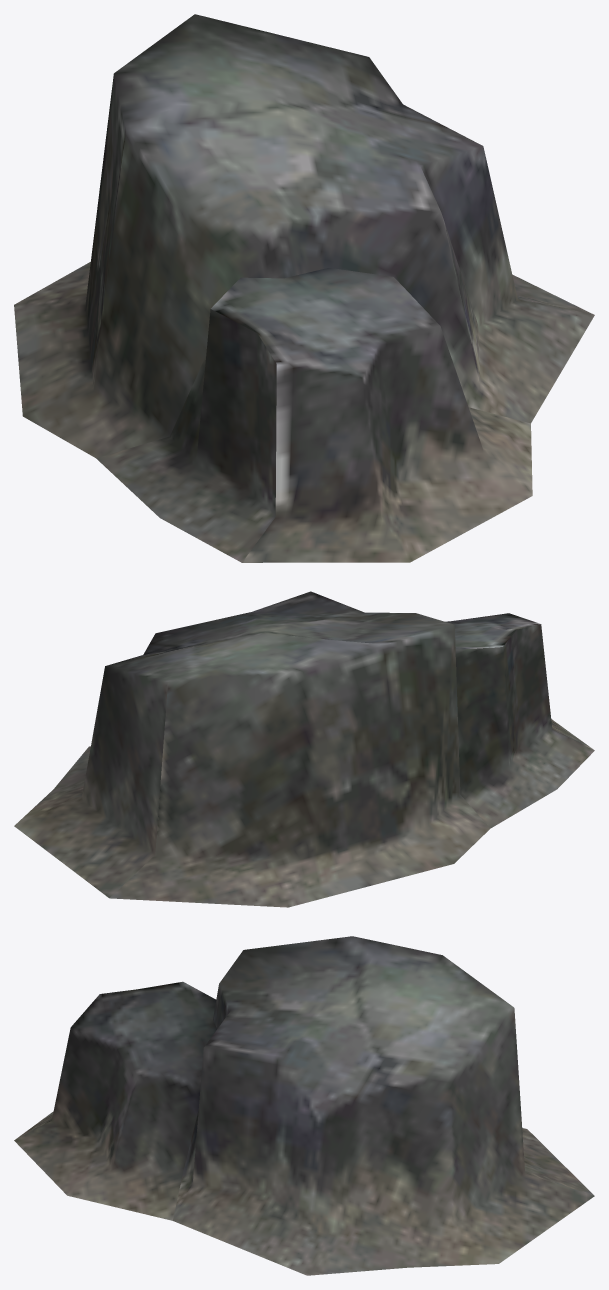
3 views of the same model, one above another, from view 1: azimuth 30°, elevation 25°; view 2: azimuth 150°, elevation 25°; view 3: azimuth 270°, elevation 25° (orthographic). The views are drawn at different scales.
Visible parts, largest first — view 1: A_ST_13; view 2: A_ST_13; view 3: A_ST_13.
Part boxes in pixels (box(x1,y1,x2,y2)): A_ST_13: box(14, 14, 594, 562); A_ST_13: box(14, 591, 594, 907); A_ST_13: box(14, 936, 594, 1275).
Size of the model in its own units: 132 by 63.13 by 176.
